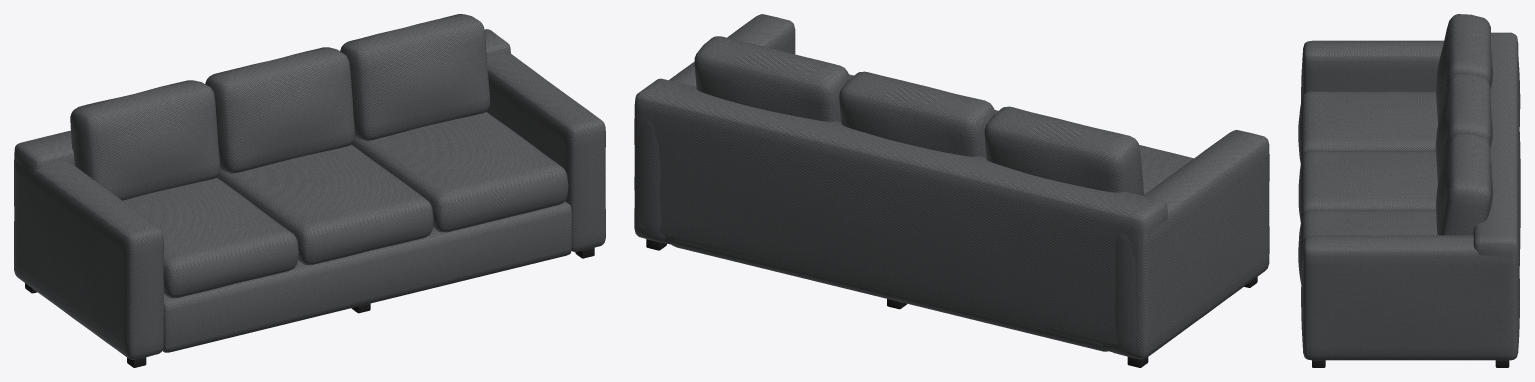
The model's file is sofa_moderno_3p_antracita.glb.
3 renders of one model, left to right at view 1: azimuth 30°, elevation 25°; view 2: azimuth 150°, elevation 25°; view 3: azimuth 270°, elevation 25°, orthographic. The views are drawn at different scales.
Parts seen in each view (by area): view 1: sofa_moderno_3p_antracita; view 2: sofa_moderno_3p_antracita; view 3: sofa_moderno_3p_antracita.
Boxes of the visible parts, x1,y1,x2,y2 form: sofa_moderno_3p_antracita: (14,14,605,367); sofa_moderno_3p_antracita: (634,14,1269,367); sofa_moderno_3p_antracita: (1298,14,1520,367).
Size of the model in its own units: 2.21 by 0.8267 by 0.9809.
2 materials, 1 textured.
